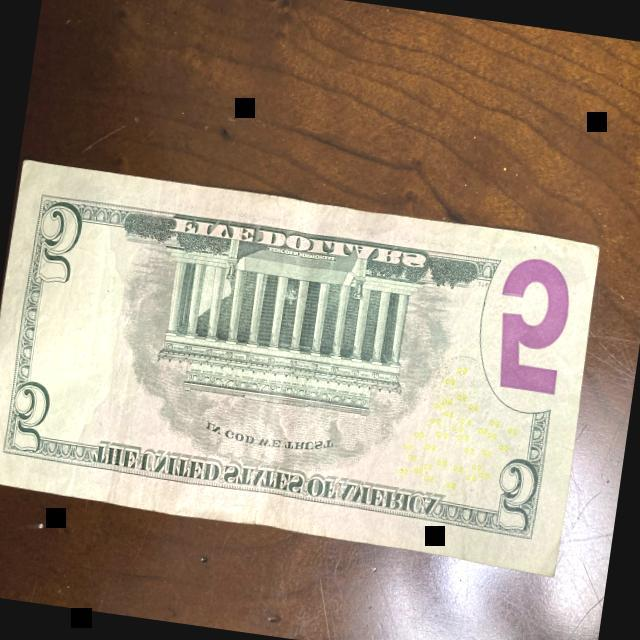five: (0, 156, 605, 581)
